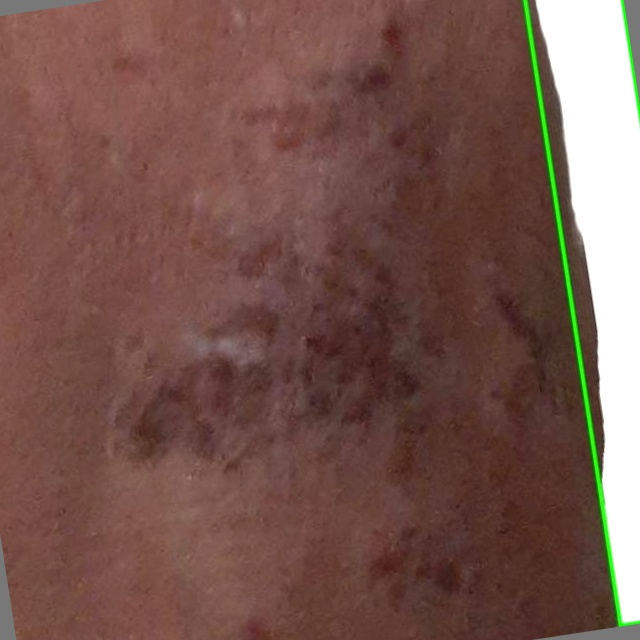Contact Dermatitis: (525, 0, 639, 625)
